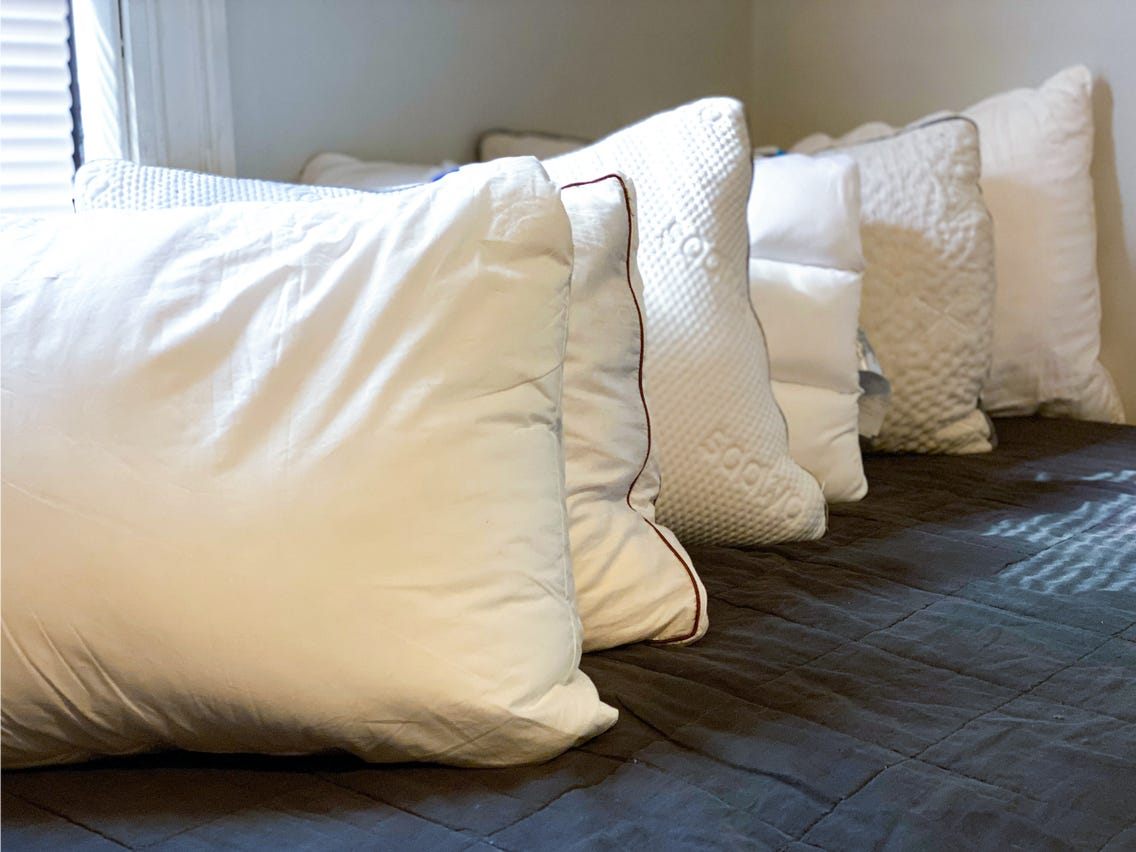bantal: (1, 107, 610, 793), (109, 159, 671, 689), (291, 105, 832, 579), (526, 139, 879, 555)
